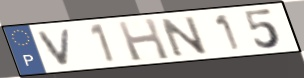1: (212, 12, 243, 53), (88, 22, 118, 64)
5: (242, 6, 286, 51)
H: (114, 16, 173, 63)
N: (157, 14, 212, 59)
V: (35, 26, 74, 67)
